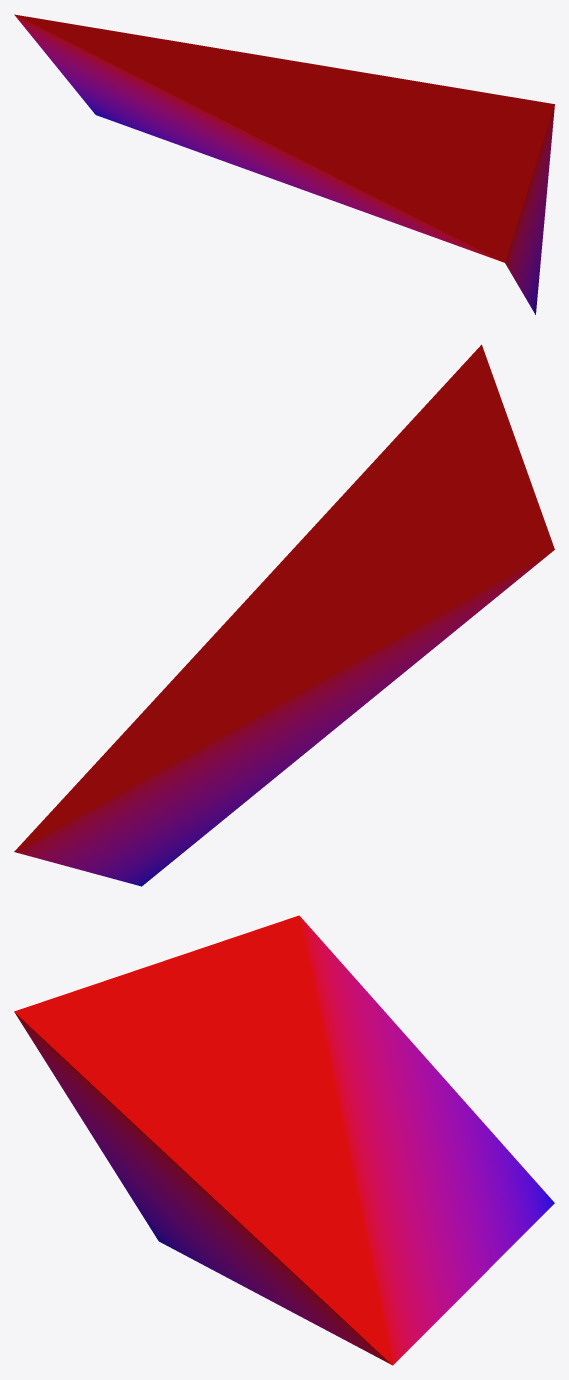
The model's file is border_patch_18.obj.
3 renders of one model, top to bottom at view 1: azimuth 30°, elevation 25°; view 2: azimuth 150°, elevation 25°; view 3: azimuth 270°, elevation 25°, orthographic. The views are drawn at different scales.
Size of the model in its own units: 0.9272 by 0.691 by 1.22.
